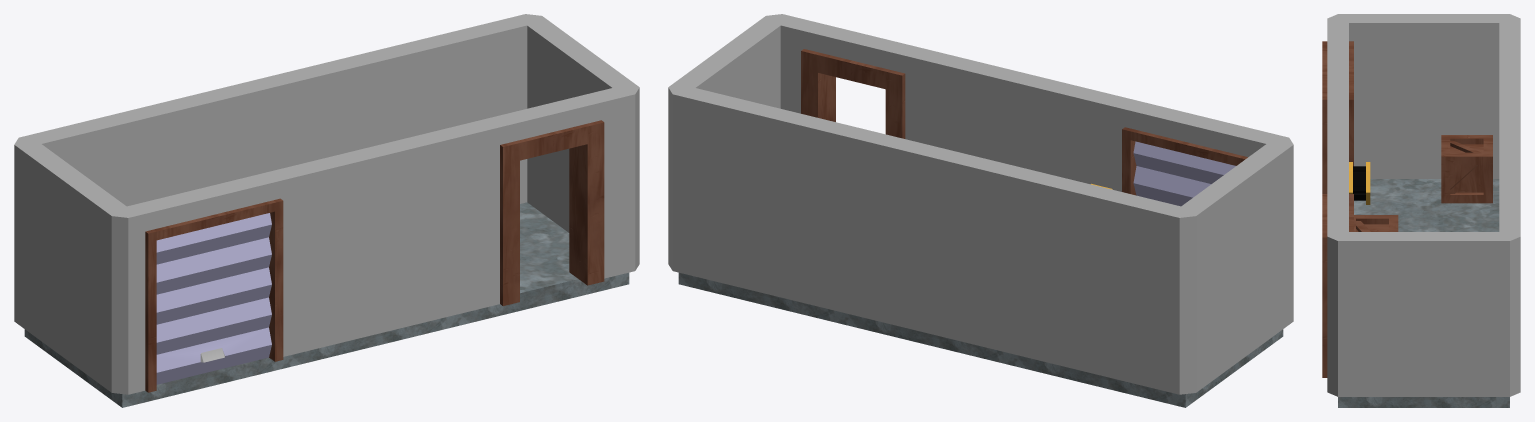
File: Level_1_7-Locked.fbx
The picture shows the model from 3 angles, left to right: view 1: azimuth 30°, elevation 25°; view 2: azimuth 150°, elevation 25°; view 3: azimuth 270°, elevation 25°; orthographic projection. The views are drawn at different scales.
Parts seen in each view (by area): view 1: mergedBlocks; view 2: mergedBlocks; view 3: mergedBlocks.
Boxes of the visible parts, left/top/right/bottom form: mergedBlocks: left=14, top=14, right=639, bottom=407; mergedBlocks: left=668, top=14, right=1293, bottom=407; mergedBlocks: left=1322, top=14, right=1520, bottom=407.
Bounding box in the file's own units: 62.5 × 22 × 23.1.
Materials: 7 (3 with a texture image).
